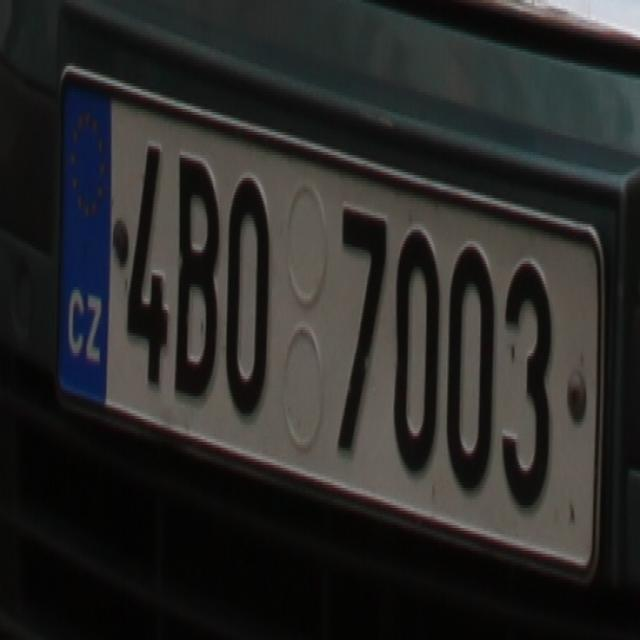0: (445, 230, 494, 502), (389, 221, 440, 474), (224, 175, 270, 419)
3: (496, 247, 553, 522)
4: (120, 132, 169, 393)
7: (334, 195, 384, 459)
B: (172, 149, 218, 408)
